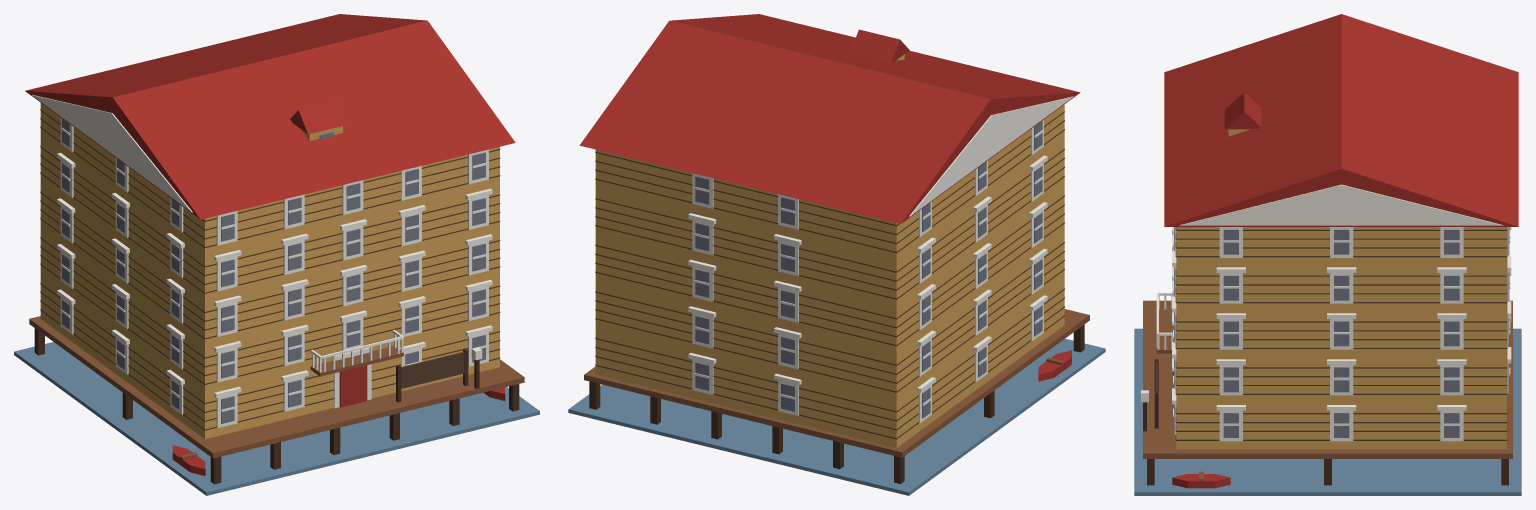
Rendered from house-2x2-5f-palafito-a.glb.
3 views of the same model, side by side, from view 1: azimuth 30°, elevation 25°; view 2: azimuth 150°, elevation 25°; view 3: azimuth 270°, elevation 25° (orthographic). The views are drawn at different scales.
Visible parts, largest first — view 1: house-2x2-5f-palafito-a; view 2: house-2x2-5f-palafito-a; view 3: house-2x2-5f-palafito-a.
Part boxes in pixels (<box>): house-2x2-5f-palafito-a: <box>14,14,539,495</box>; house-2x2-5f-palafito-a: <box>568,14,1105,495</box>; house-2x2-5f-palafito-a: <box>1134,14,1521,495</box>.
Bounding box in the file's own units: 1.99 × 1.83 × 1.99.
1 material, 1 textured.
